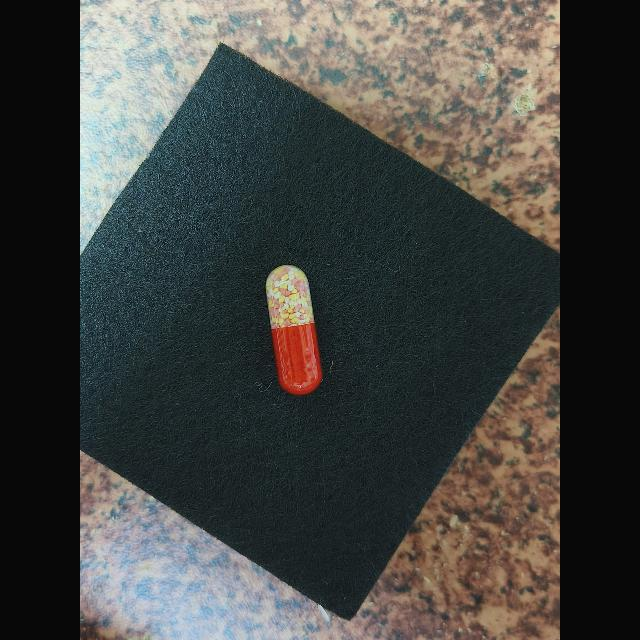Intact Capsule: (266, 264, 322, 395)
